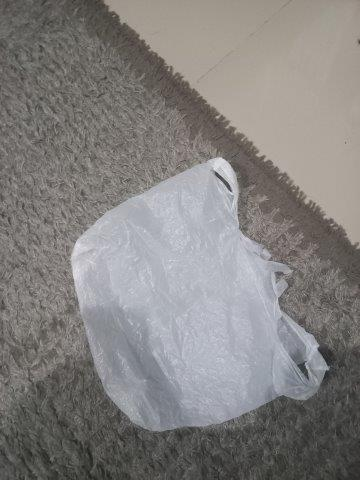plastik: (71, 157, 330, 431)
